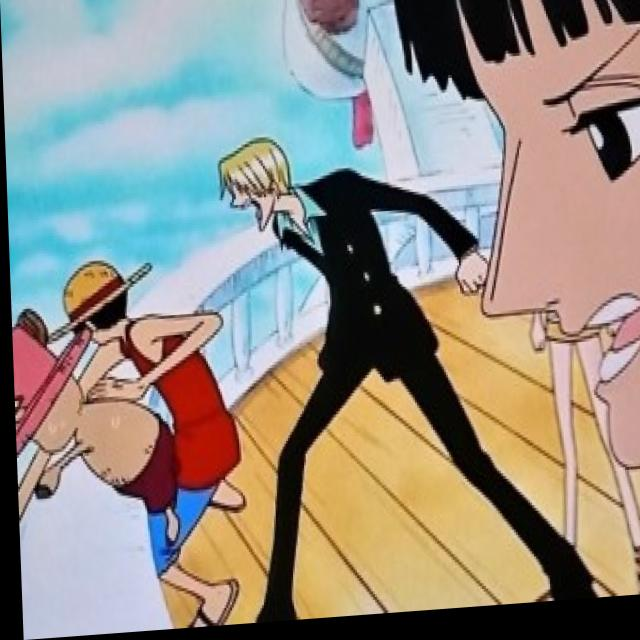Chyopa: (9, 298, 187, 547)
Luffy: (41, 244, 158, 358)
NicoRobin: (393, 0, 640, 492)
Sangdi: (212, 132, 302, 258)
